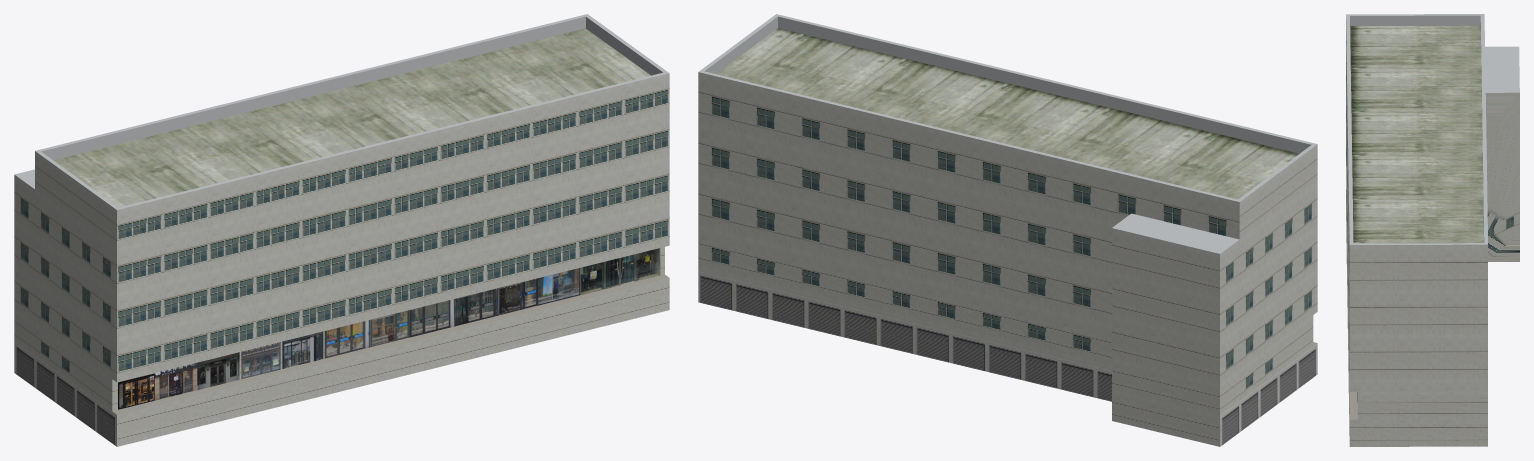
3 renders of one model, left to right at view 1: azimuth 30°, elevation 25°; view 2: azimuth 150°, elevation 25°; view 3: azimuth 270°, elevation 25°, orthographic. The views are drawn at different scales.
Visible parts, largest first — view 1: jz7; view 2: jz7; view 3: jz7.
Part boxes in pixels (x1,y1,x2,y2): jz7: [14, 14, 669, 446]; jz7: [698, 14, 1317, 446]; jz7: [1346, 14, 1519, 446].
Size of the model in its own units: 5095 by 2074 by 1619.
16 materials, 16 textured.
